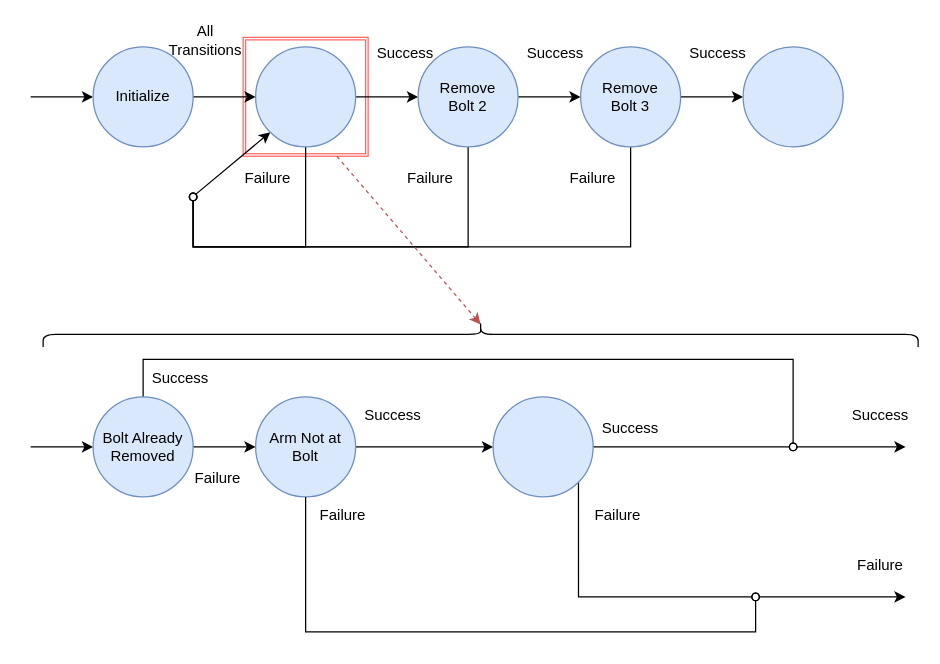
Some shapes in this 940 by 664 pixel diagram are drawn without their labels. Here are the shapes that lost their labels. From the top down, the centre of each, then its label:
At pixel 305 96: "Remove Bolt 1".
At pixel 792 96: "Global Success".
At pixel 542 446: "Remove the Bolt".
